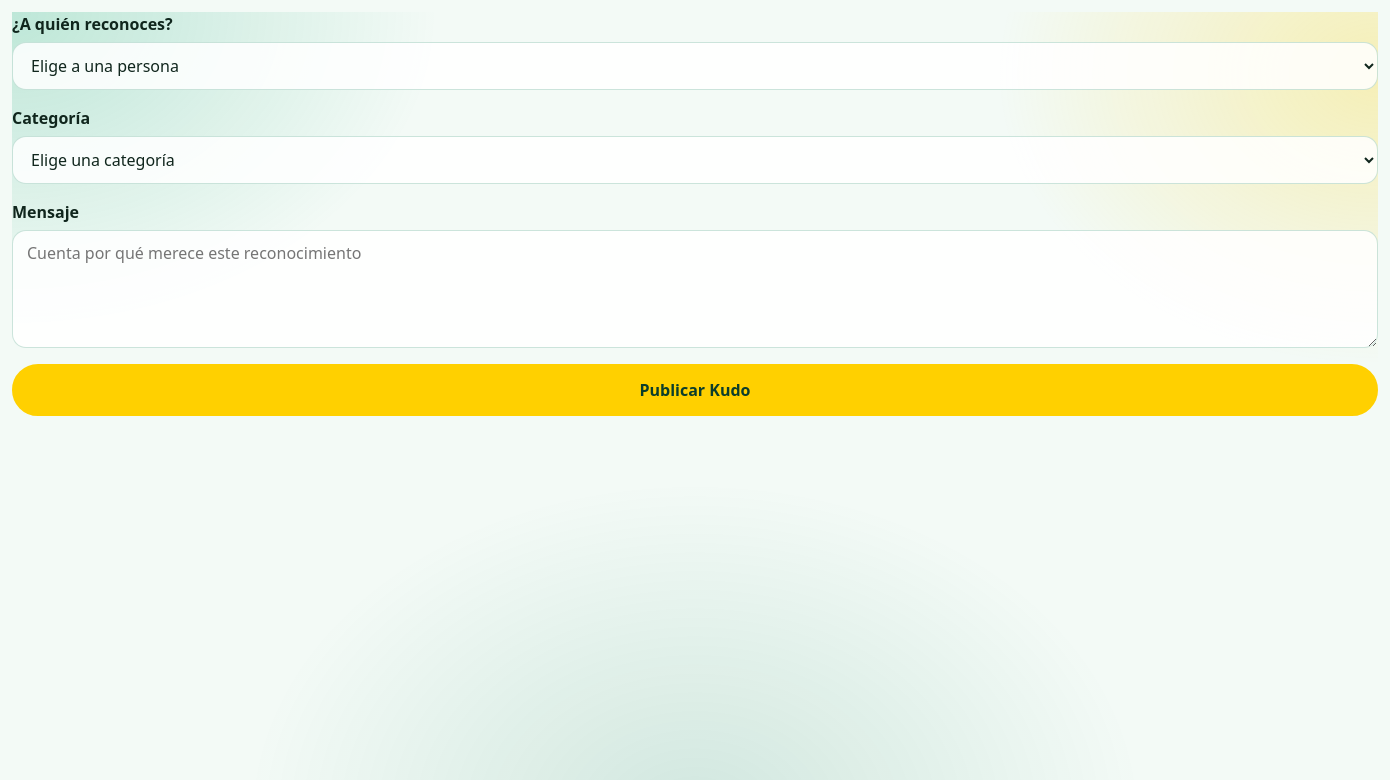
Scenario: FormularioDePublicacion › pide elegir destinatario y categoría antes de publicar
The image size is (1390, 780).
Check: the dropdown labelled "¿A quién reconoces?" is shown, box [12,42,1378,90]
Click the button "Publicar Kudo" at (695, 390), box [12,364,1378,416]
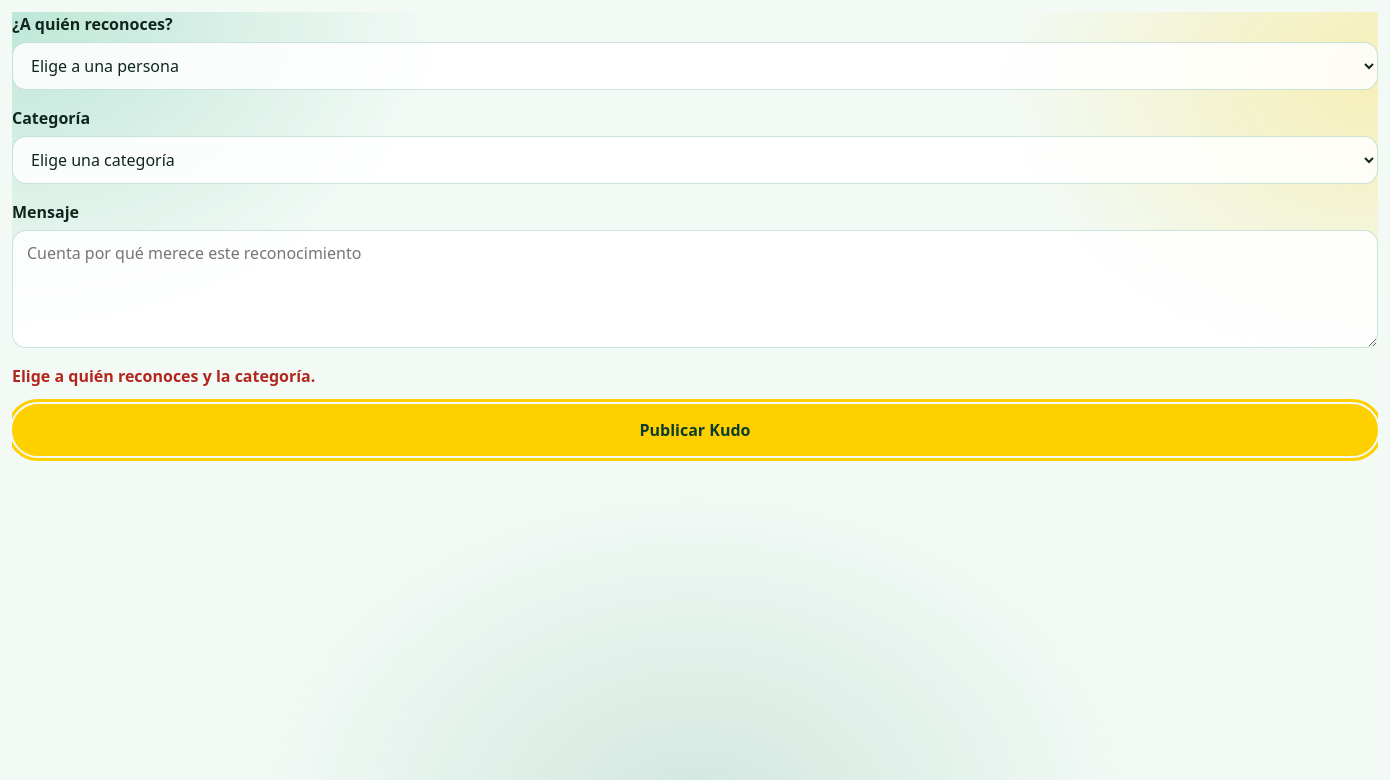
Check: the message reads "Elige a quién reconoces y la categoría.", box [12,365,315,387]
